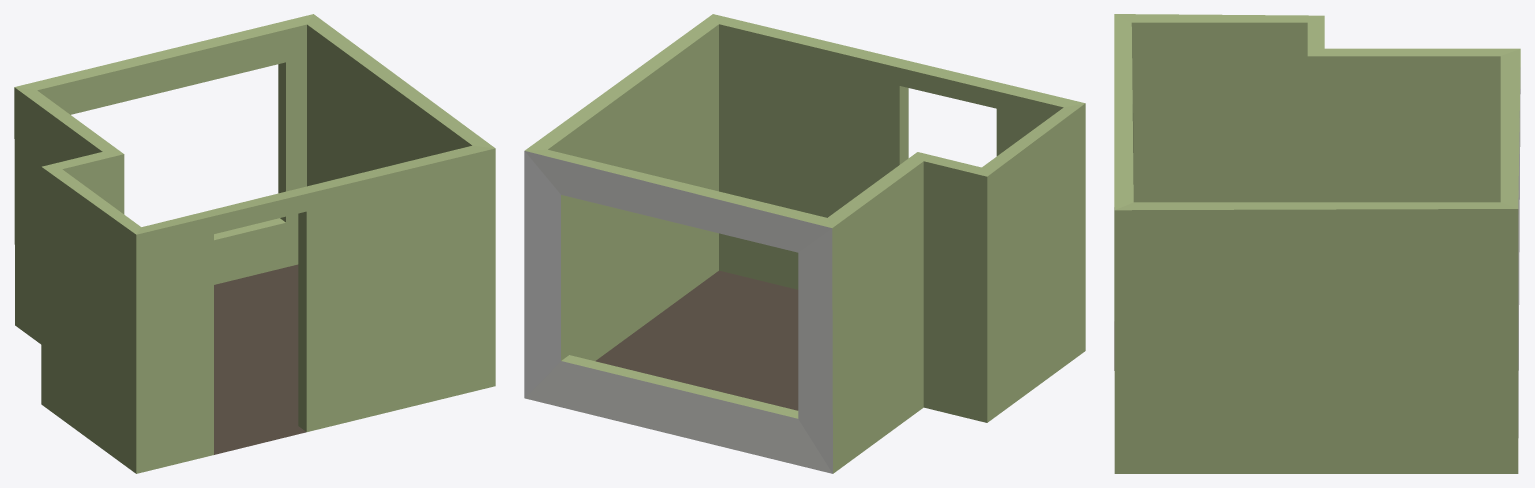
File: EscenaC3.fbx
3 views of the same model, side by side, from view 1: azimuth 30°, elevation 25°; view 2: azimuth 150°, elevation 25°; view 3: azimuth 270°, elevation 25° (orthographic). The views are drawn at different scales.
Visible parts, largest first — view 1: Cube.010; view 2: Cube.010; view 3: Cube.010.
Part boxes in pixels (x1,y1,x2,y2): Cube.010: (14,14,495,473); Cube.010: (524,14,1085,473); Cube.010: (1114,14,1520,473).
Bounding box in the file's own units: 4.72 × 3 × 4.17.
